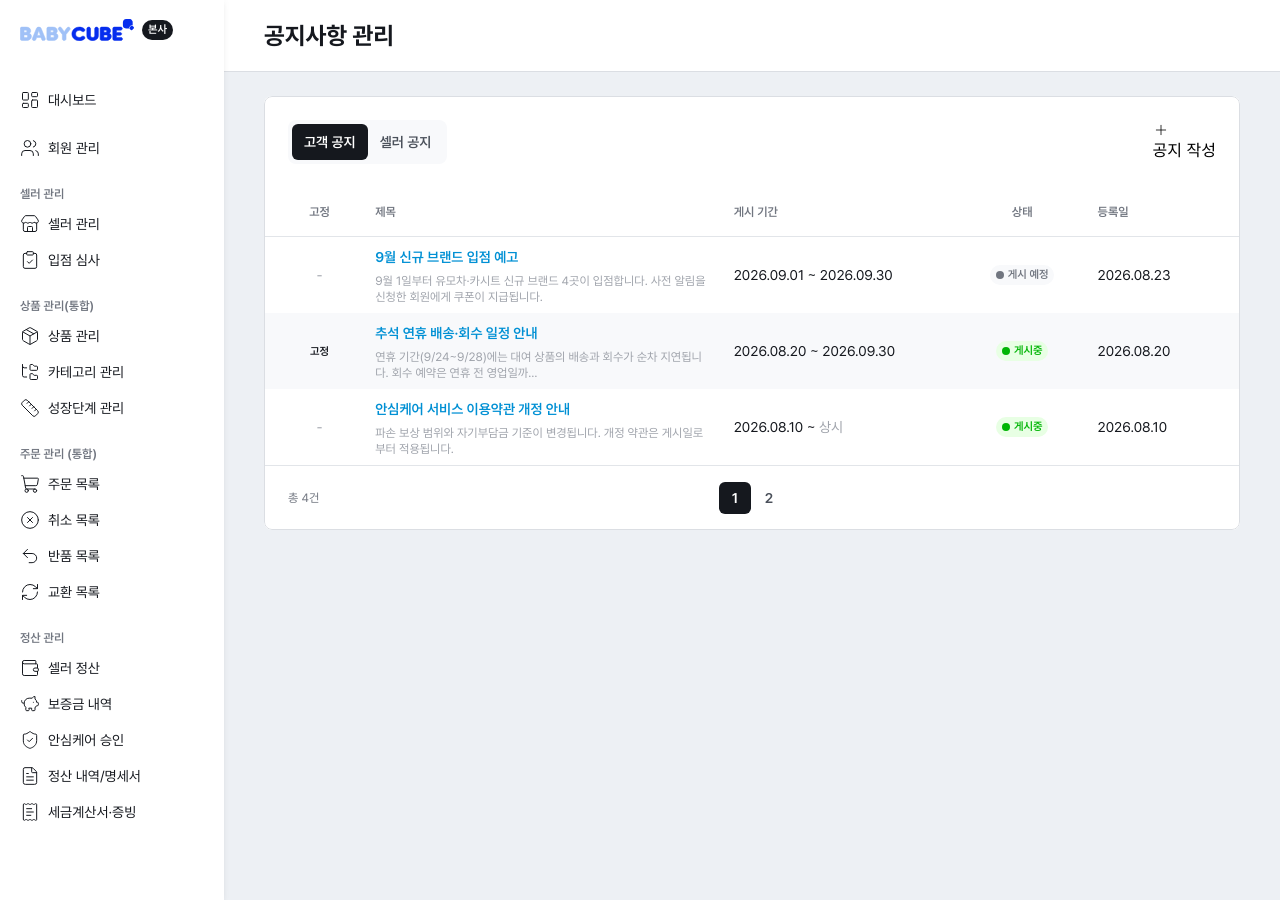
Scenario: NoticeListPage › 제목 → 공지 미리보기 › 제목을 누르면 본문 전문이 모달에 뜬다
Click the button "추석 연휴 배송·회수 일정 안내".
click(456, 332)  # box [375, 320, 538, 344]
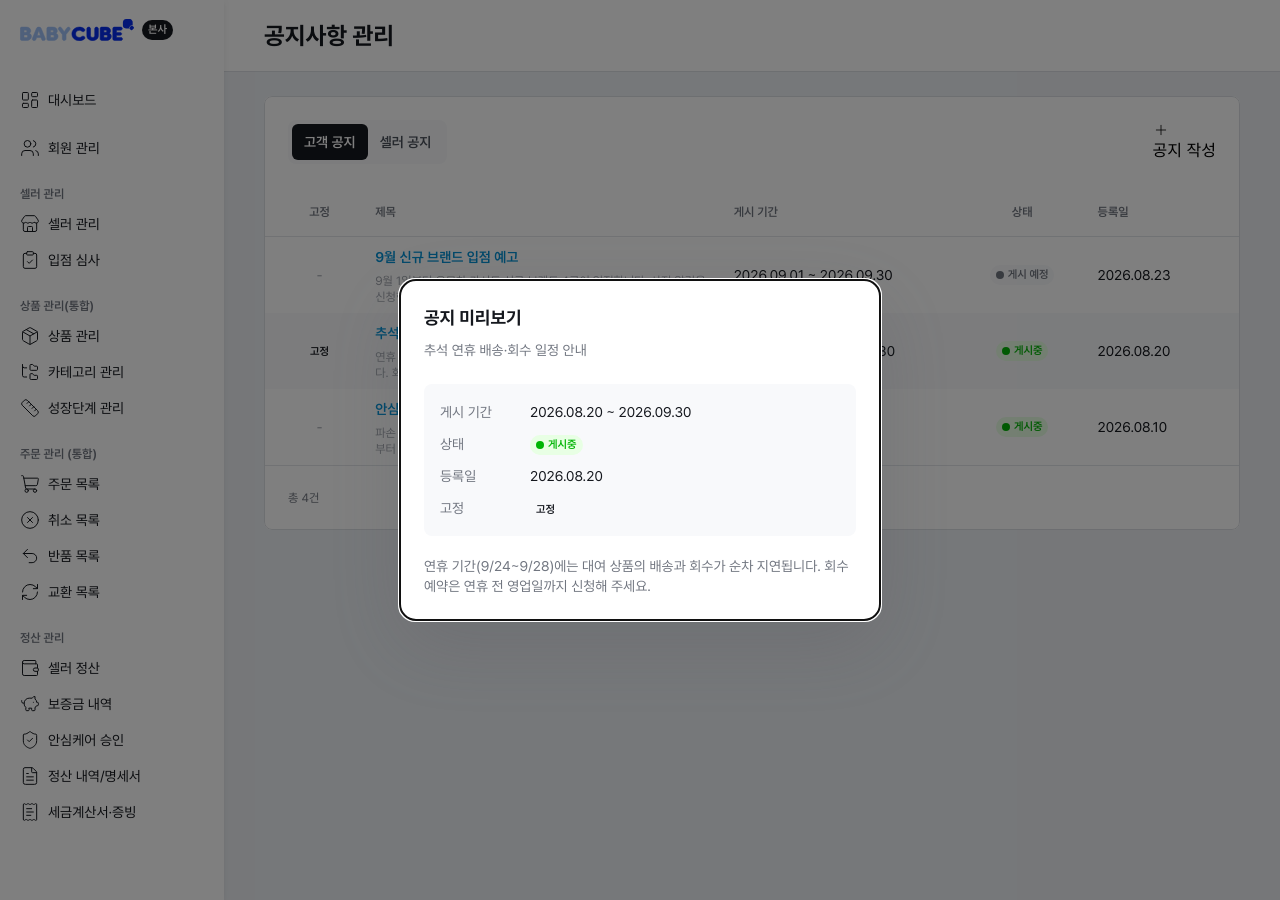
Expected: the heading "공지 미리보기" is shown, [424, 307, 522, 328]
Expected: the text "연휴 기간(9/24~9/28)에는 대여 상품의 배송과 회수가 순차 지연됩니다. 회수 예약은 연휴 전 영업일까지 신청해 주세요." is shown, [424, 556, 856, 596]
